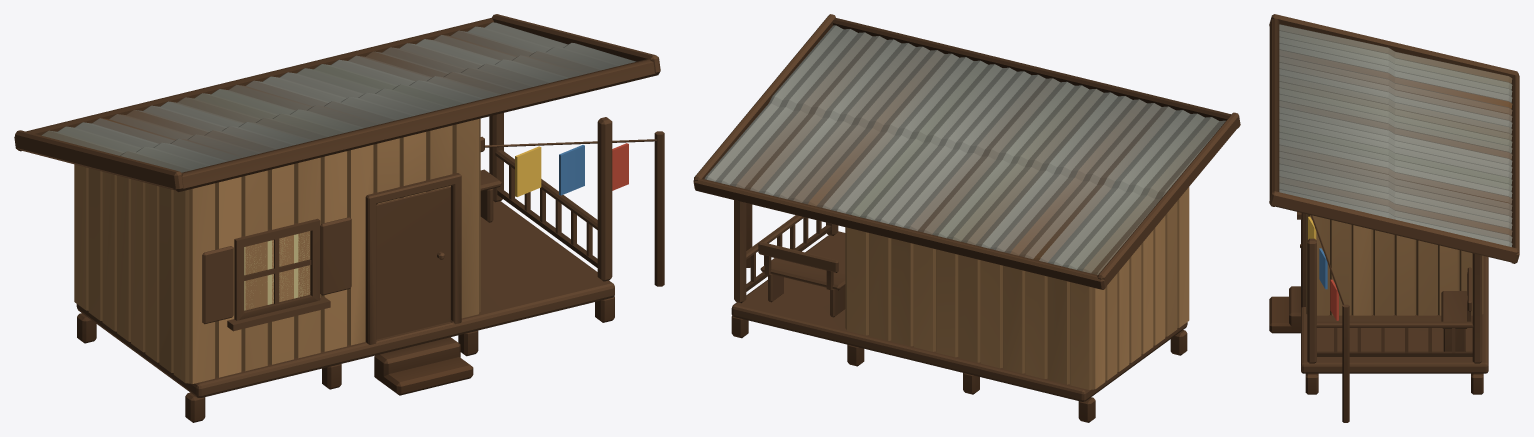
File: rumah_g.glb
3 views of the same model, side by side, from view 1: azimuth 30°, elevation 25°; view 2: azimuth 150°, elevation 25°; view 3: azimuth 270°, elevation 25° (orthographic). The views are drawn at different scales.
Parts seen in each view (by area): view 1: rumah_g_mesh; view 2: rumah_g_mesh; view 3: rumah_g_mesh.
Boxes of the visible parts, <box> form: rumah_g_mesh: <box>14,14,664,422</box>; rumah_g_mesh: <box>693,14,1240,422</box>; rumah_g_mesh: <box>1269,14,1519,422</box>.
Size of the model in its own units: 6.28 by 3.09 by 3.33.
